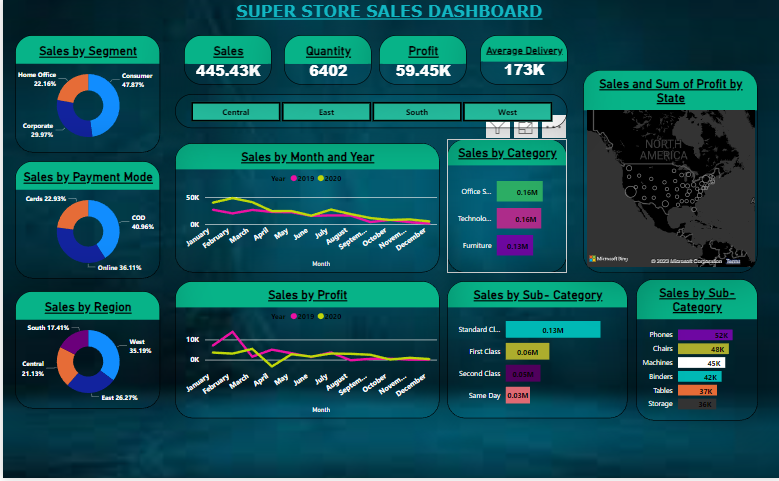

This screenshot's page, from the dashboard's own definition file:
{"tool":"powerbi","page":{"name":"Page 1","canvas":[1300,800],"ordinal":0},"visuals":[{"type":"clusteredBarChart","title":"Sales by Category","fields":{"Category":["SuperStore_Sales_Dataset (3).Category"],"Y":["Sum(SuperStore_Sales_Dataset (3).Sales)"]},"box":[740.6,234.8,200,223.2],"z":1},{"type":"clusteredBarChart","title":"Sales by Sub- Category","fields":{"Category":["SuperStore_Sales_Dataset (3).Sub-Category"],"Y":["Sum(SuperStore_Sales_Dataset (3).Sales)"]},"box":[1055.1,468.1,202.9,236.2],"z":2},{"type":"clusteredBarChart","title":"Sales by Sub- Category","fields":{"Category":["SuperStore_Sales_Dataset (3).Ship Mode"],"Y":["Sum(SuperStore_Sales_Dataset (3).Sales)"]},"box":[740.6,472.5,301.4,229],"z":3},{"type":"areaChart","title":"Sales by Month and Year","fields":{"Y":["Sum(SuperStore_Sales_Dataset (3).Sales)"],"Series":["SuperStore_Sales_Dataset (3).Order Date.Variation.Date Hierarchy.Year"],"Category":["SuperStore_Sales_Dataset (3).Order Date.Variation.Date Hierarchy.Month","SuperStore_Sales_Dataset (3).Order Date.Variation.Date Hierarchy.Day"]},"box":[287,242,440.6,215.9],"z":4},{"type":"areaChart","title":"Sales by Profit","fields":{"Series":["SuperStore_Sales_Dataset (3).Order Date.Variation.Date Hierarchy.Year"],"Category":["SuperStore_Sales_Dataset (3).Order Date.Variation.Date Hierarchy.Month","SuperStore_Sales_Dataset (3).Order Date.Variation.Date Hierarchy.Day"],"Y":["Sum(SuperStore_Sales_Dataset (3).Profit)"]},"box":[287,472.5,440.6,229],"z":5},{"type":"map","title":" Sales and Sum of Profit by State","fields":{"Category":["SuperStore_Sales_Dataset (3).State"],"Size":["Sum(SuperStore_Sales_Dataset (3).Sales)"]},"box":[966.7,120.3,291.3,337.7],"z":6},{"type":"donutChart","title":" Sales by Segment","fields":{"Category":["SuperStore_Sales_Dataset (3).Segment"],"Y":["Sum(SuperStore_Sales_Dataset (3).Sales)"]},"box":[20.3,60.9,242,195.7],"z":7},{"type":"donutChart","title":" Sales by Payment Mode","fields":{"Y":["Sum(SuperStore_Sales_Dataset (3).Sales)"],"Category":["SuperStore_Sales_Dataset (3).Payment Mode"]},"box":[20.3,272.5,242,195.7],"z":8},{"type":"donutChart","title":" Sales by Region","fields":{"Category":["SuperStore_Sales_Dataset (3).Region"],"Y":["Sum(SuperStore_Sales_Dataset (3).Sales)"]},"box":[20.3,488.4,242,195.7],"z":9},{"type":"slicer","fields":{"Values":["SuperStore_Sales_Dataset (3).Region"]},"box":[287,159.4,653.6,56.5],"z":10},{"type":"card","title":"Sales","fields":{"Values":["Sum(SuperStore_Sales_Dataset (3).Sales)"]},"box":[301.4,60.9,146.4,82.6],"z":11},{"type":"card","title":"Quantity","fields":{"Values":["Sum(SuperStore_Sales_Dataset (3).Quantity)"]},"box":[468.1,60.9,146.4,82.6],"z":12},{"type":"card","title":"Profit","fields":{"Values":["Sum(SuperStore_Sales_Dataset (3).Profit)"]},"box":[626.1,60.9,146.4,82.6],"z":13},{"type":"card","title":"Average Delivery","fields":{"Values":["Sum(SuperStore_Sales_Dataset (3).AverageDel)"]},"box":[794.2,60.9,146.4,82.6],"z":14},{"type":"textbox","box":[369.6,0,547.8,55.1],"z":15}]}

Visuals, with their boxes in screenshot pixels (x1, y1, x2, y2), scaled from the page's 1300x800 canvas onto the 779x481 screenshot:
"Sales by Category" clusteredBarChart: (444,141,564,275)
"Sales by Sub- Category" clusteredBarChart: (632,281,754,423)
"Sales by Sub- Category" clusteredBarChart: (444,284,624,422)
"Sales by Month and Year" areaChart: (172,146,436,275)
"Sales by Profit" areaChart: (172,284,436,422)
" Sales and Sum of Profit by State" map: (579,72,754,275)
" Sales by Segment" donutChart: (12,37,157,154)
" Sales by Payment Mode" donutChart: (12,164,157,282)
" Sales by Region" donutChart: (12,294,157,411)
slicer - SuperStore_Sales_Dataset (3).Region: (172,96,564,130)
"Sales" card: (181,37,268,86)
"Quantity" card: (280,37,368,86)
"Profit" card: (375,37,463,86)
"Average Delivery" card: (476,37,564,86)
textbox: (221,0,550,33)
